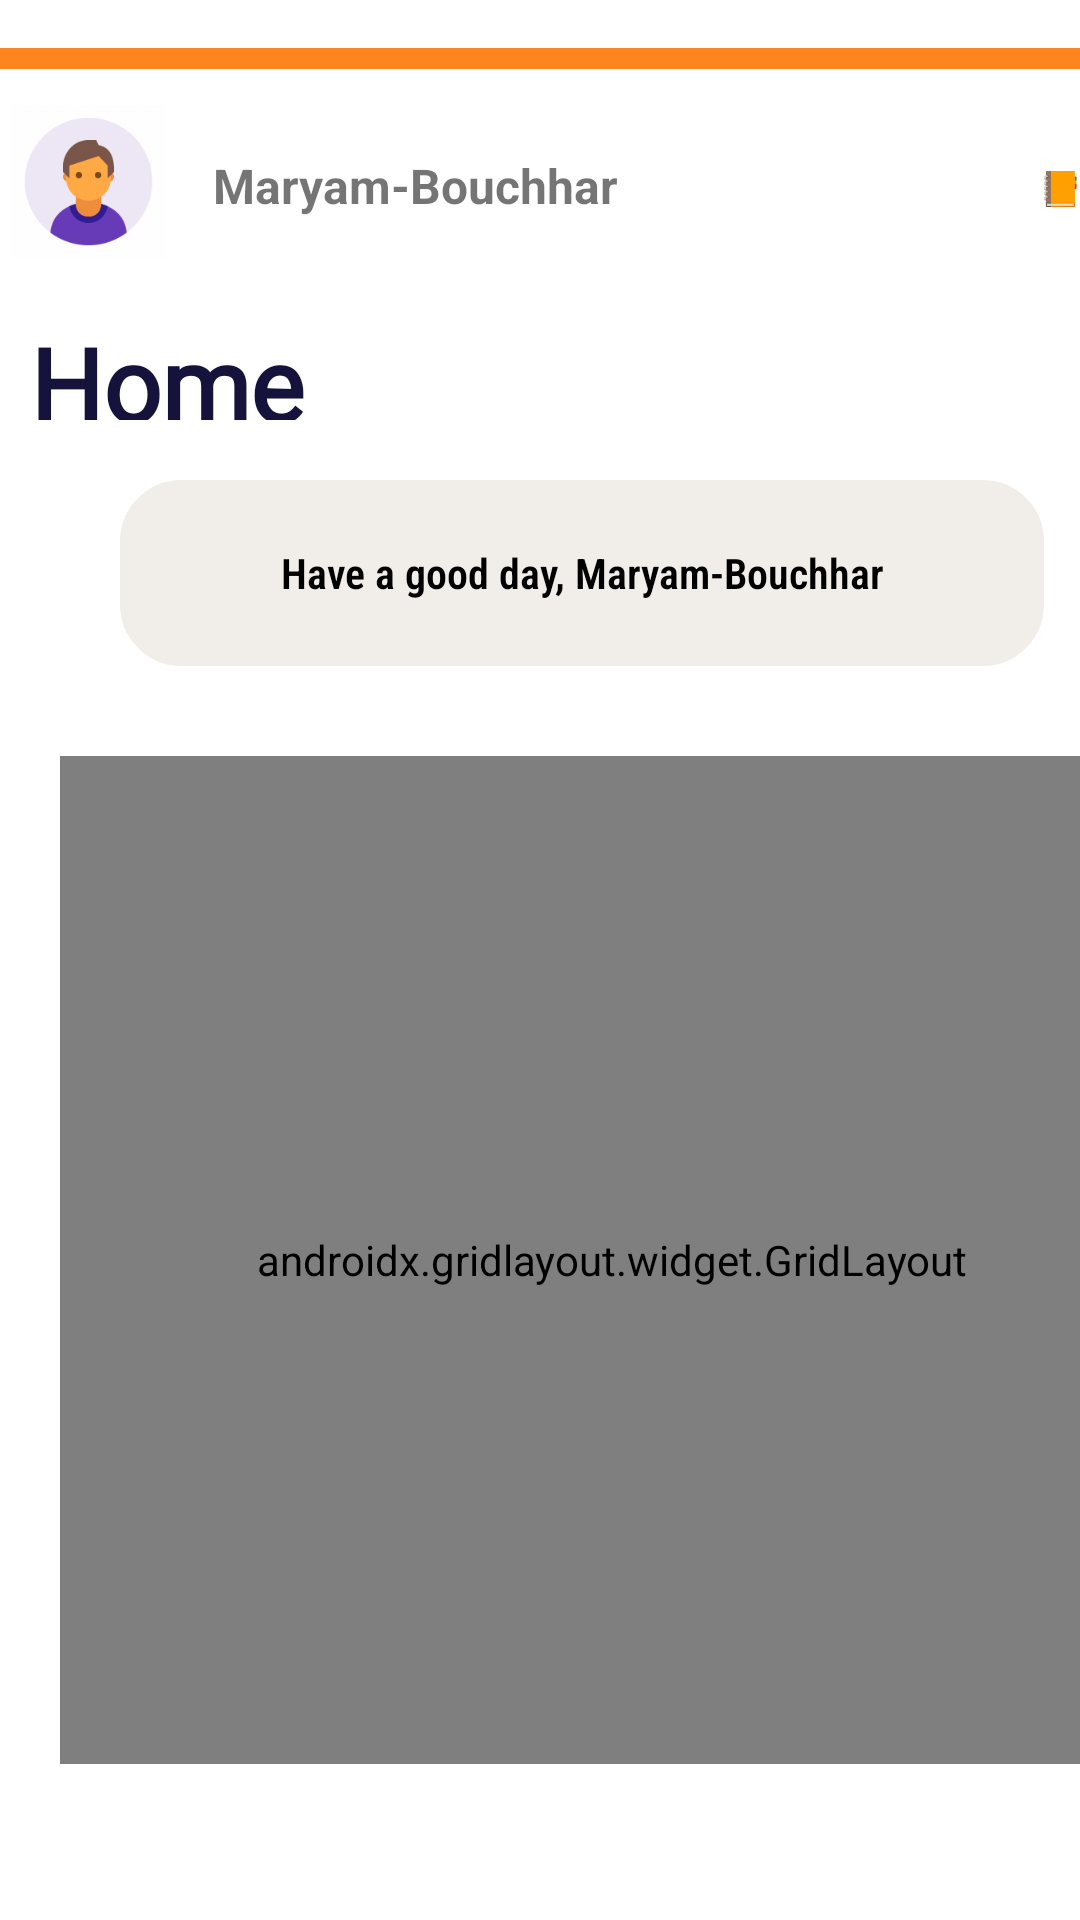

Screen size 1080px x 1920px. Icon name, then its box in pixels as bbox=[x1, y1, x2, y2]:
book: bbox=[1044, 171, 1077, 207]
user: bbox=[25, 118, 151, 246]
